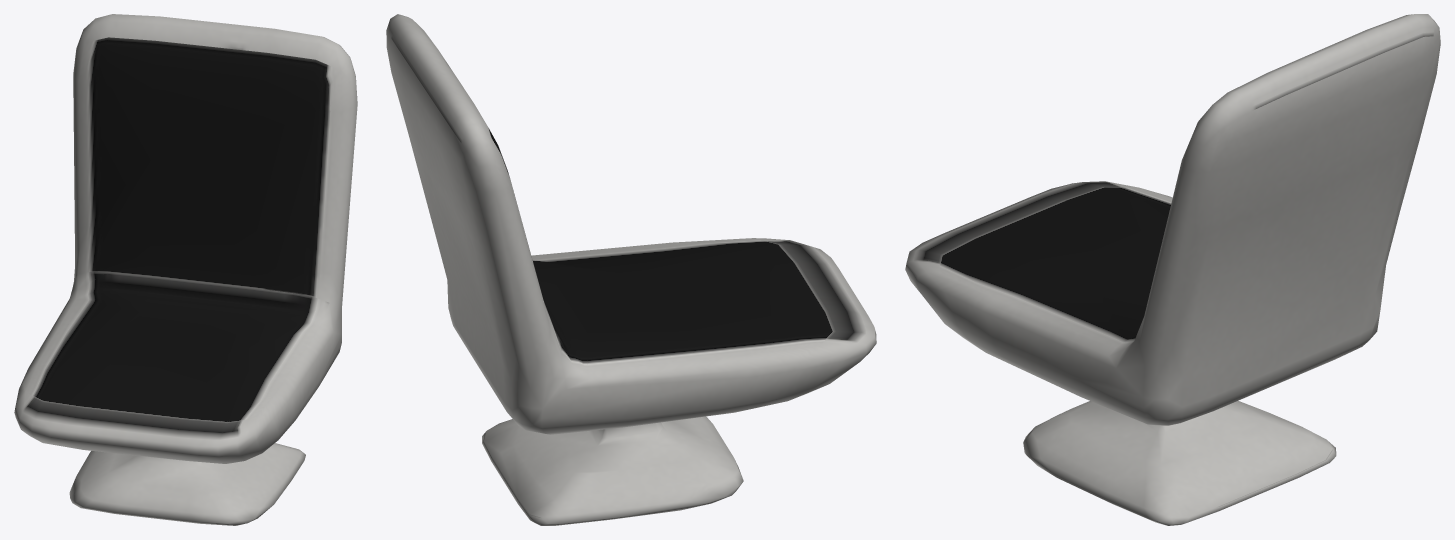
File: hw_pop_chair.glb
3 views of the same model, side by side, from view 1: azimuth 30°, elevation 25°; view 2: azimuth 150°, elevation 25°; view 3: azimuth 270°, elevation 25° (orthographic). The views are drawn at different scales.
Visible parts, largest first — view 1: Chair_001__0; view 2: Chair_001__0; view 3: Chair_001__0.
Boxes of the visible parts, x1,y1,x2,y2 form: Chair_001__0: (14, 14, 357, 525); Chair_001__0: (386, 14, 876, 525); Chair_001__0: (905, 14, 1440, 525).
Size of the model in its own units: 26.59 by 26.15 by 27.11.
Materials: 1 (1 with a texture image).
